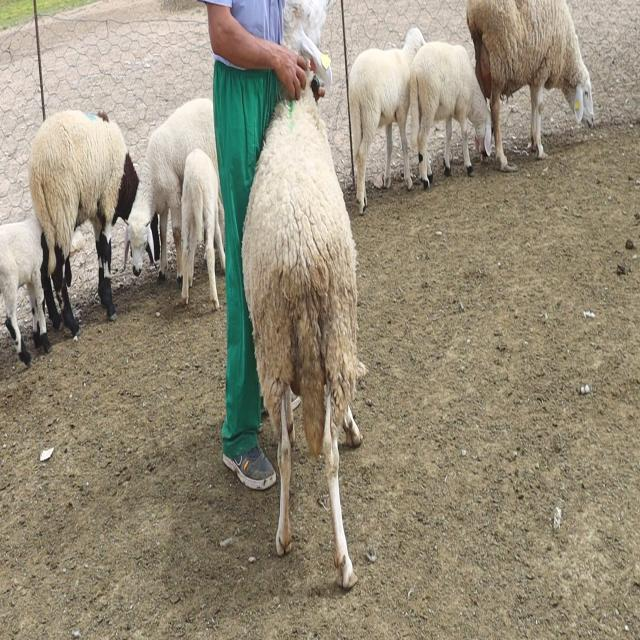Score_3: (242, 80, 367, 588)
